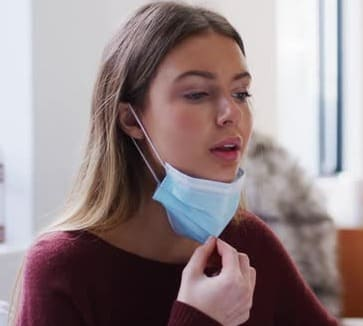with_incorrect_mask: (160, 53, 251, 244)
